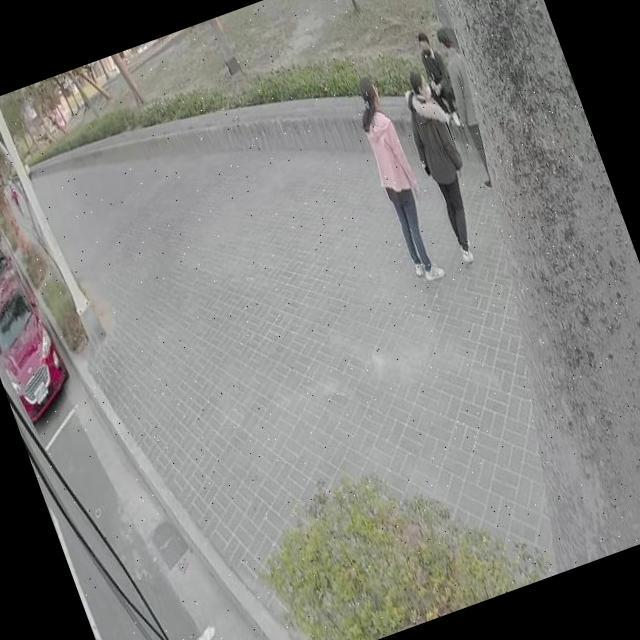person: (346, 72, 450, 283), (392, 62, 497, 265), (431, 25, 506, 188), (414, 27, 465, 128)
